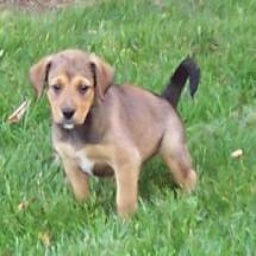dog: (25, 36, 208, 220)
